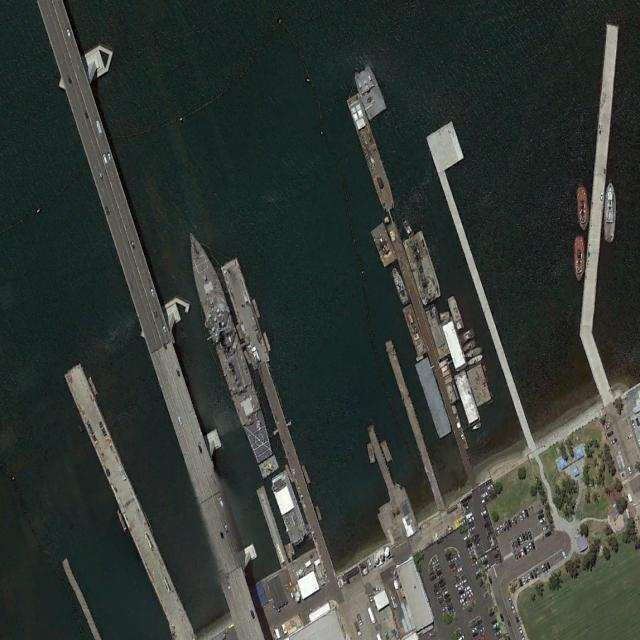Destroyer: (177, 224, 276, 467)
Other Ship: (447, 295, 464, 331), (464, 345, 483, 361), (458, 328, 475, 344), (467, 353, 484, 367), (462, 339, 478, 352)
Other Warship: (352, 62, 388, 121), (390, 266, 411, 306)
